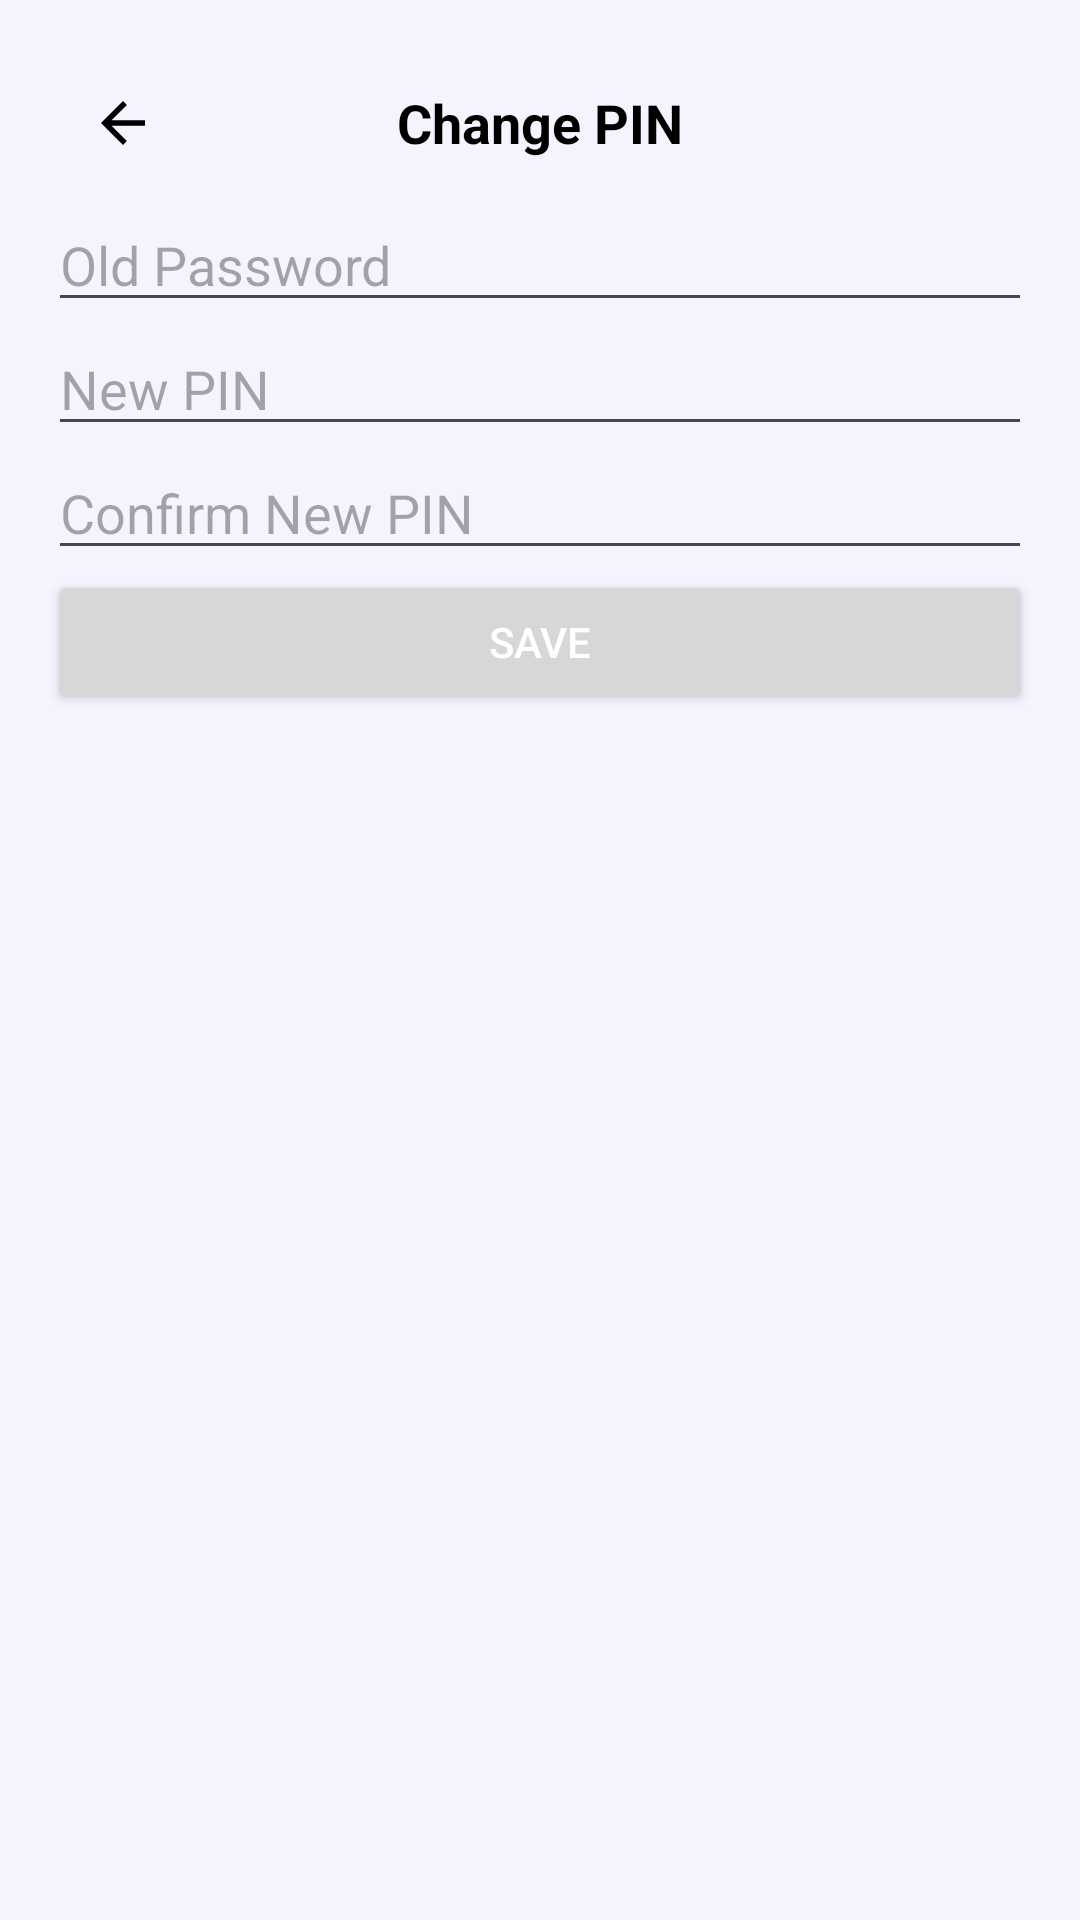

Locate icon controls on the screen. Image size 1080*1920, boxes as (x1, y1, x2, y2).
back: (101, 101, 145, 145)
